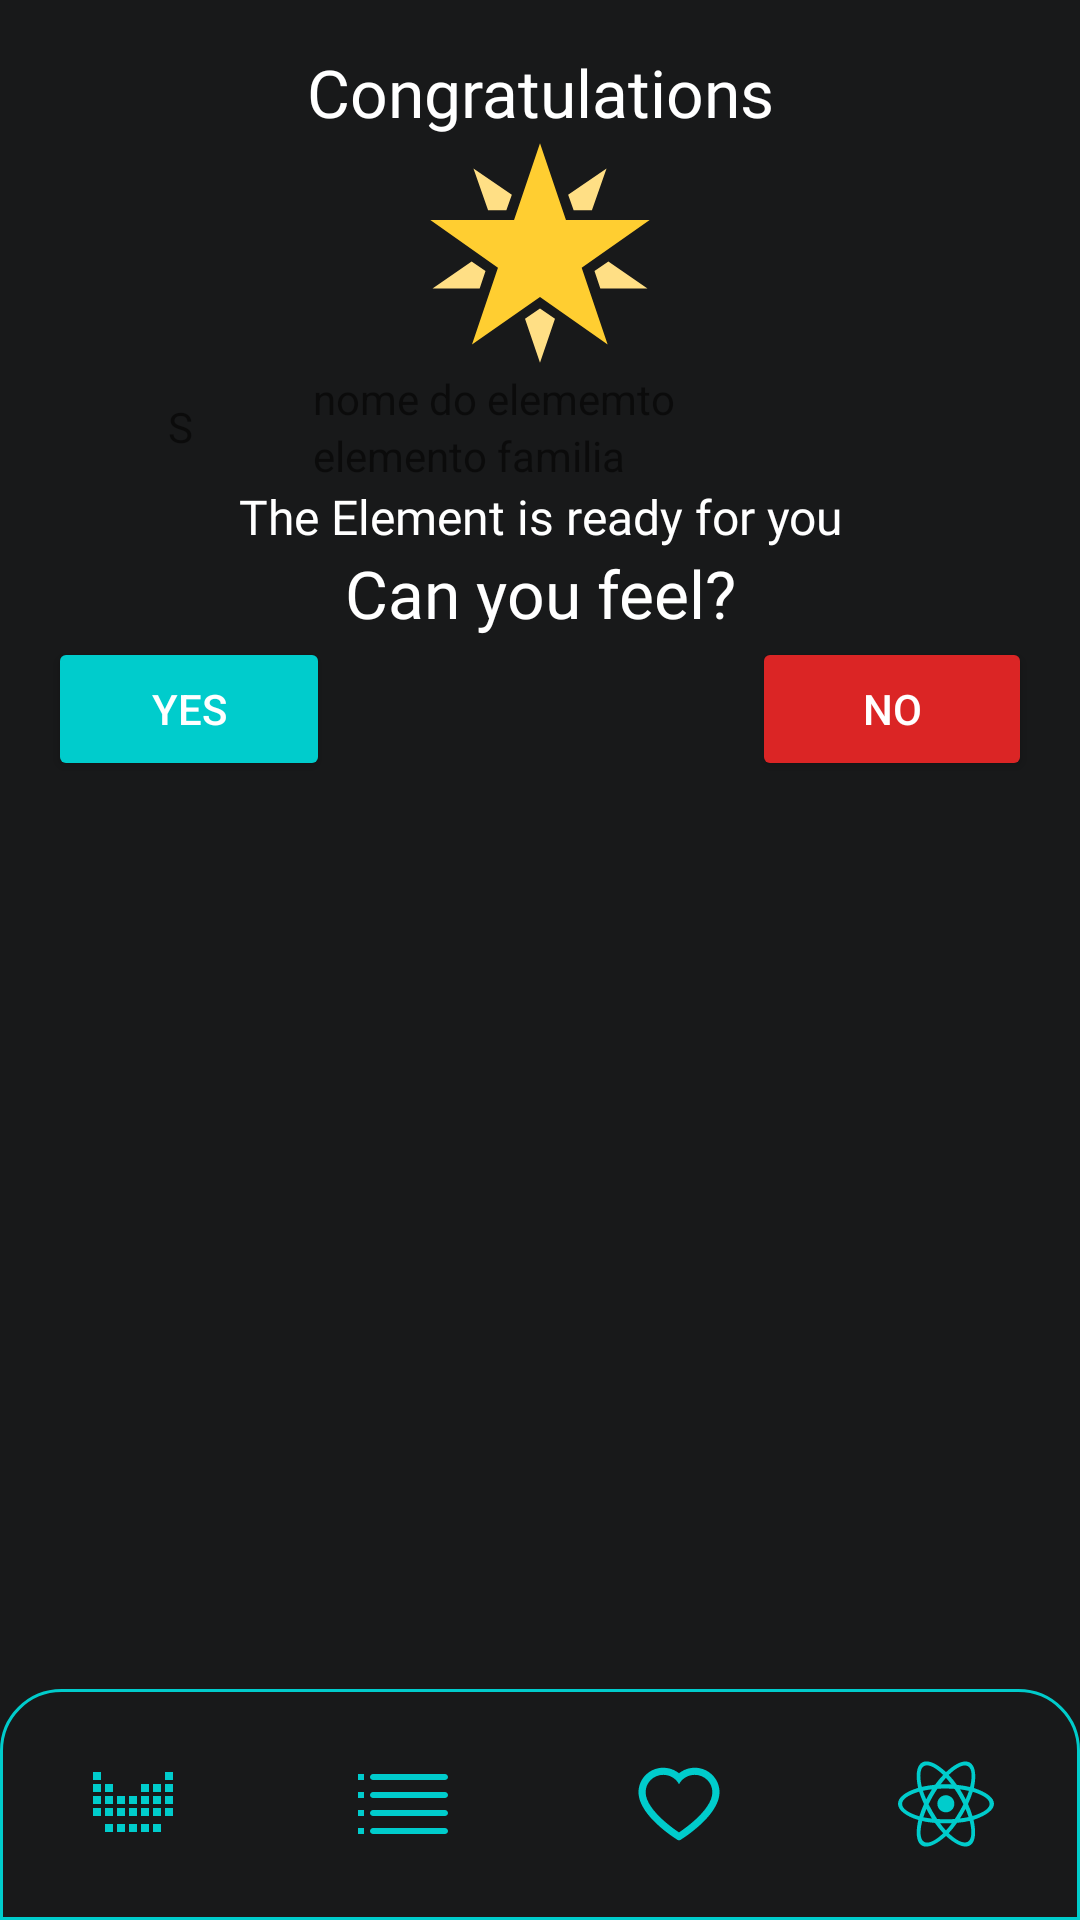

Named icons in this screenshot (1080x1920) and their bounding boxes, (x1, y1, x2, y2):
atomo menu: (898, 1761, 994, 1847)
emojione glowing star: (430, 144, 650, 362)
favoritos menu: (638, 1767, 720, 1841)
listas menu: (358, 1774, 448, 1834)
tabela periodica menu: (93, 1772, 173, 1832)
